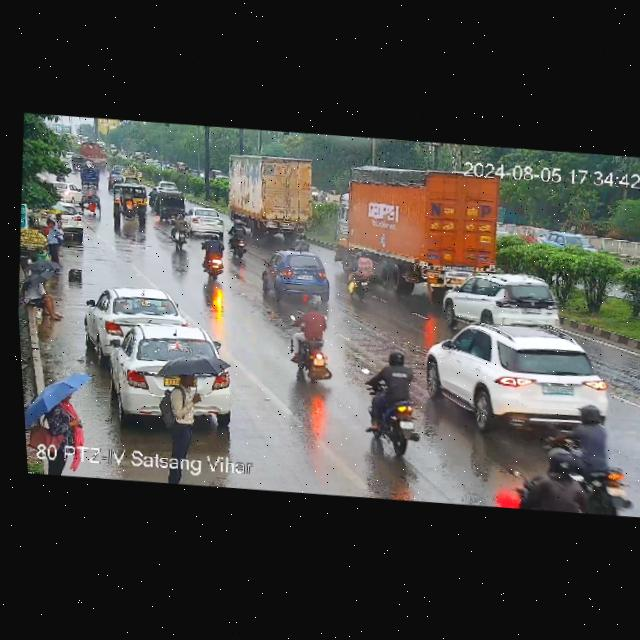car: (418, 315, 617, 441), (105, 321, 229, 395), (441, 268, 564, 332), (82, 283, 186, 352), (253, 248, 339, 311), (109, 181, 154, 233), (179, 206, 229, 239), (542, 226, 601, 252), (61, 200, 91, 236), (116, 183, 152, 210), (154, 190, 186, 220), (81, 185, 104, 216)
motorcycle: (563, 401, 639, 513), (356, 344, 423, 461), (508, 433, 602, 515), (281, 293, 345, 390), (199, 229, 228, 281), (347, 248, 373, 300), (165, 207, 190, 250), (226, 217, 250, 257), (145, 186, 159, 210)
person: (158, 372, 211, 456), (39, 395, 89, 474), (18, 272, 67, 323), (20, 280, 66, 320), (42, 218, 63, 263), (53, 208, 67, 242)
truck: (331, 161, 516, 304), (222, 150, 330, 247)
